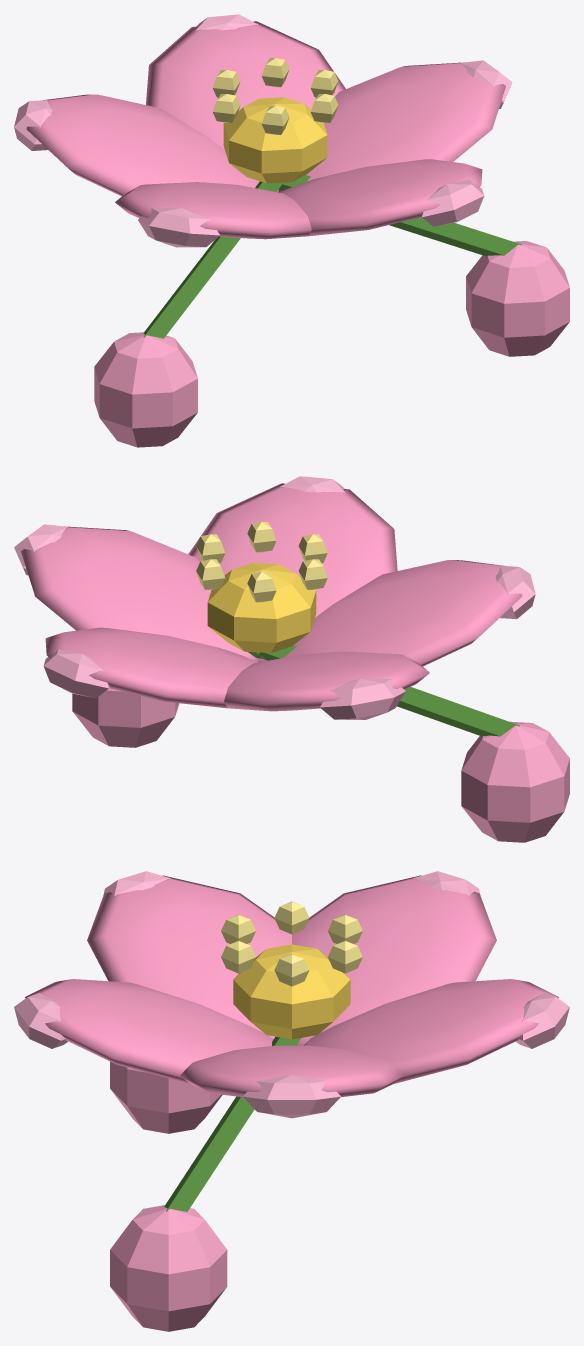
File: Fruto_CherryBlossom.fbx
3 renders of one model, top to bottom at view 1: azimuth 30°, elevation 25°; view 2: azimuth 150°, elevation 25°; view 3: azimuth 270°, elevation 25°, orthographic. The views are drawn at different scales.
Visible parts, largest first — view 1: Produto_CherryBlossom, Cabo_CherryBlossom; view 2: Produto_CherryBlossom, Cabo_CherryBlossom; view 3: Produto_CherryBlossom, Cabo_CherryBlossom.
Part boxes in pixels (x1,y1,x2,y2): Produto_CherryBlossom: [14, 14, 569, 447]; Cabo_CherryBlossom: [143, 58, 521, 338]; Produto_CherryBlossom: [14, 476, 569, 842]; Cabo_CherryBlossom: [196, 521, 519, 736]; Produto_CherryBlossom: [14, 871, 569, 1331]; Cabo_CherryBlossom: [164, 901, 362, 1211].
Size of the model in its own units: 0.6651 by 0.377 by 0.6314.
1 material, 1 textured.
